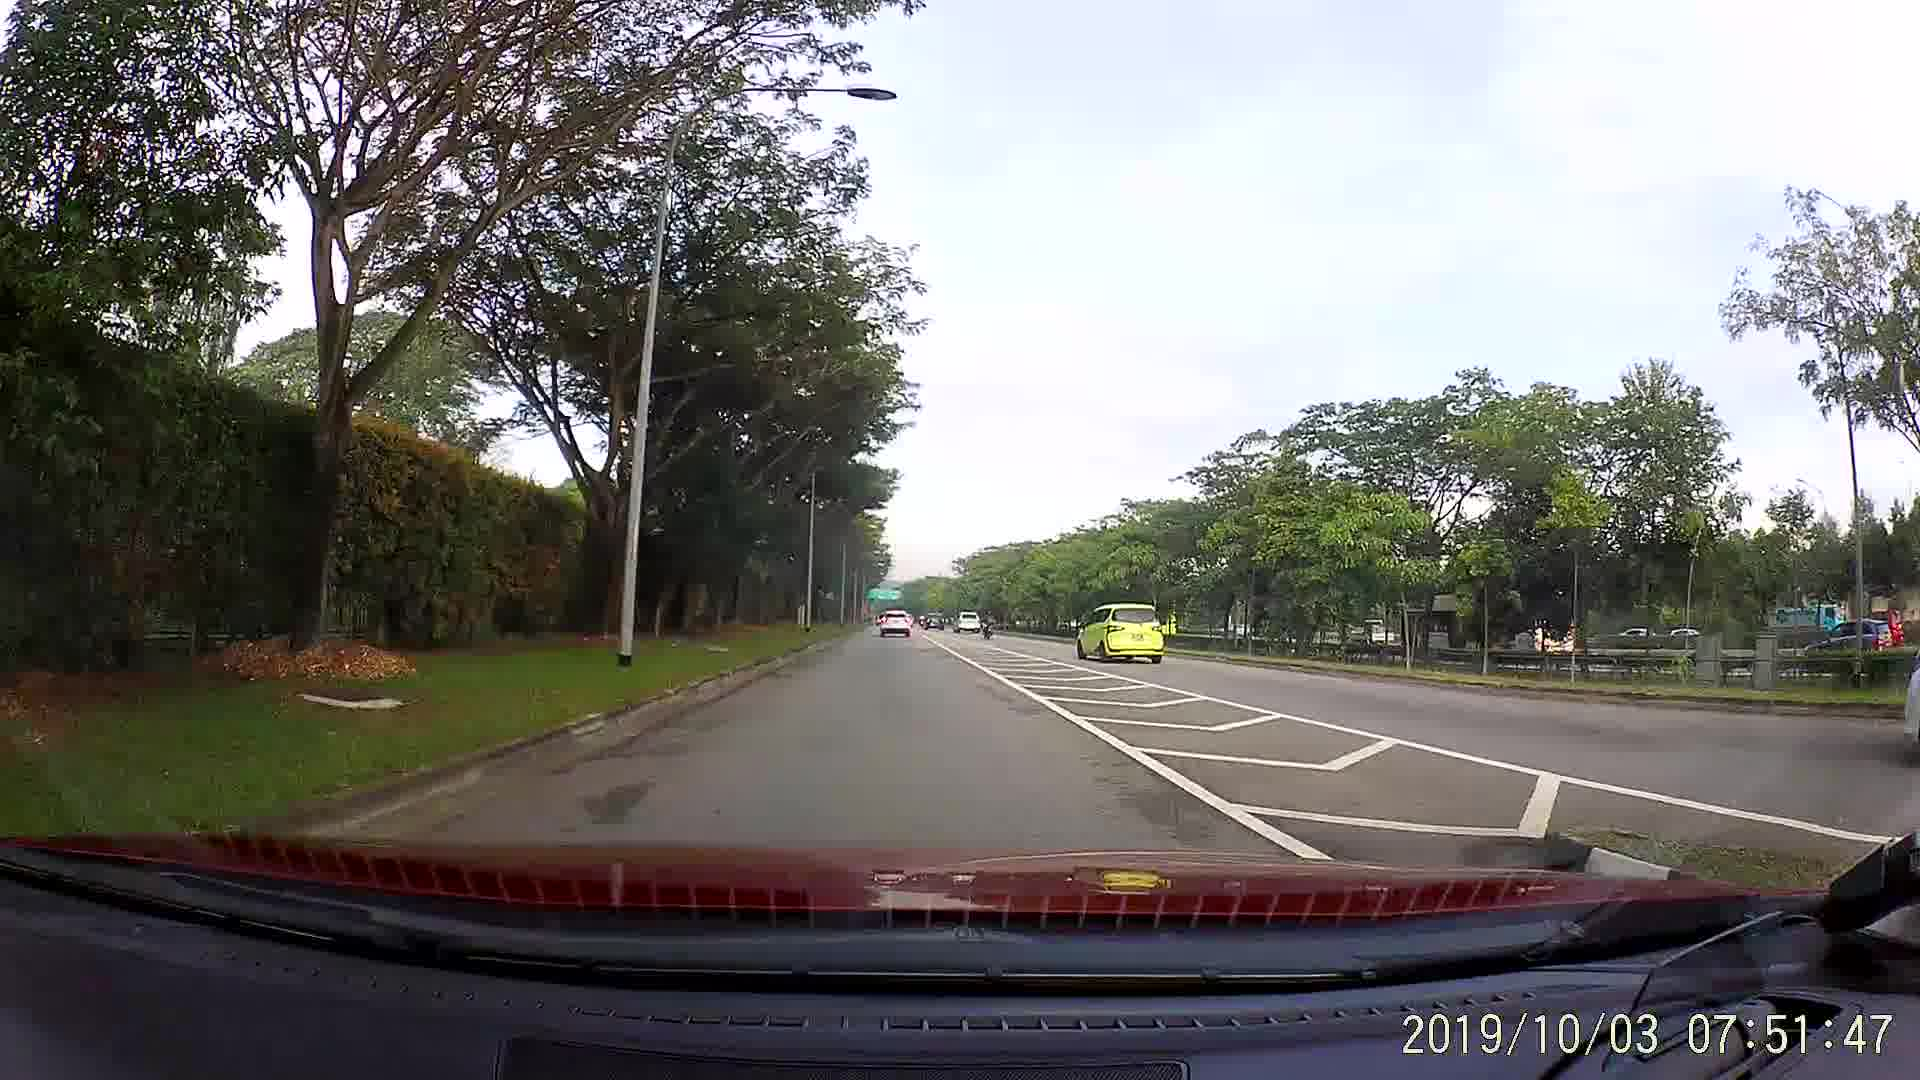car: (1076, 603, 1164, 665), (876, 611, 919, 642), (953, 612, 982, 636), (927, 611, 948, 630)
